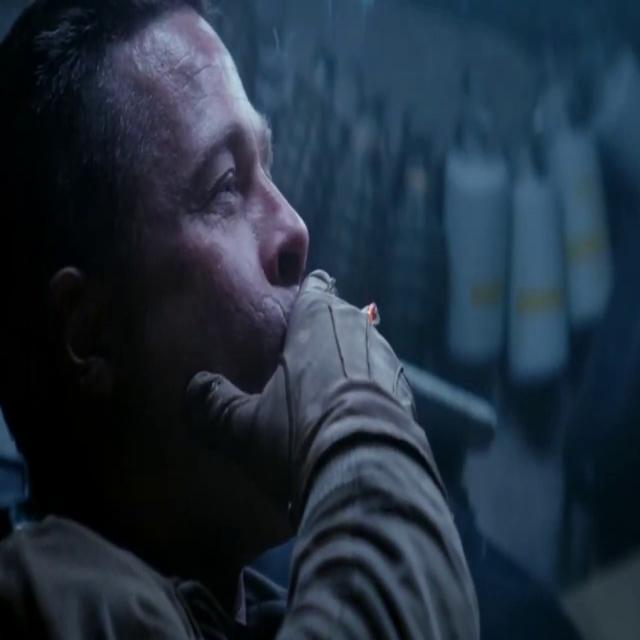Smooking: (352, 289, 385, 333)
